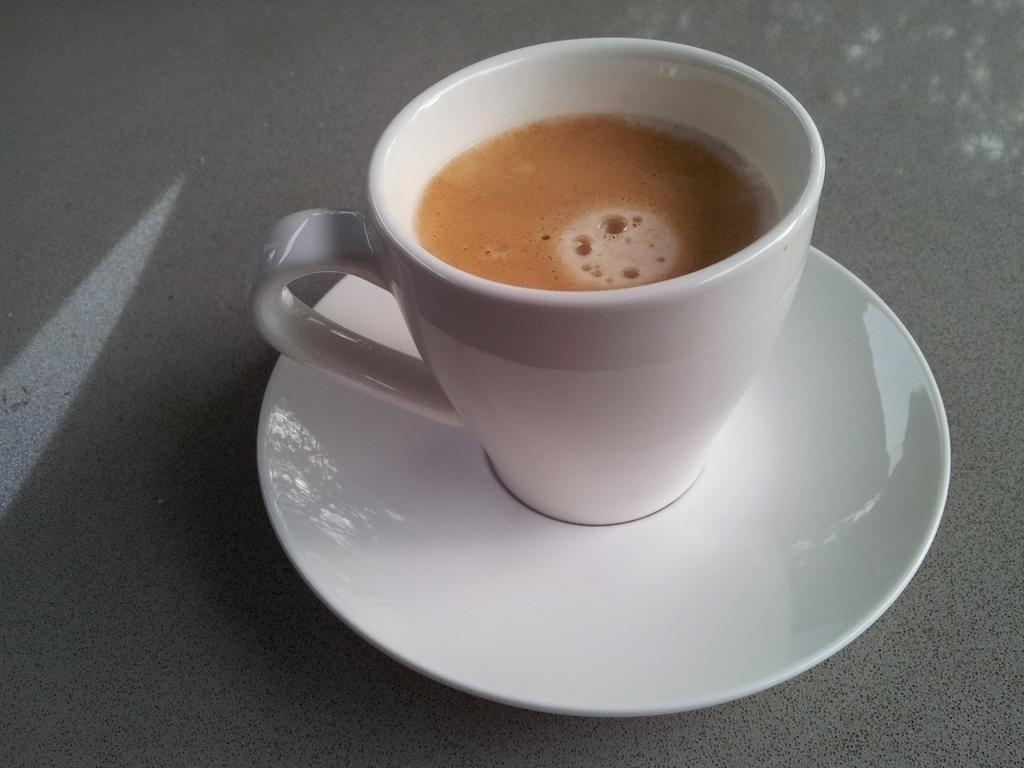cup-handle: (248, 36, 830, 530)
